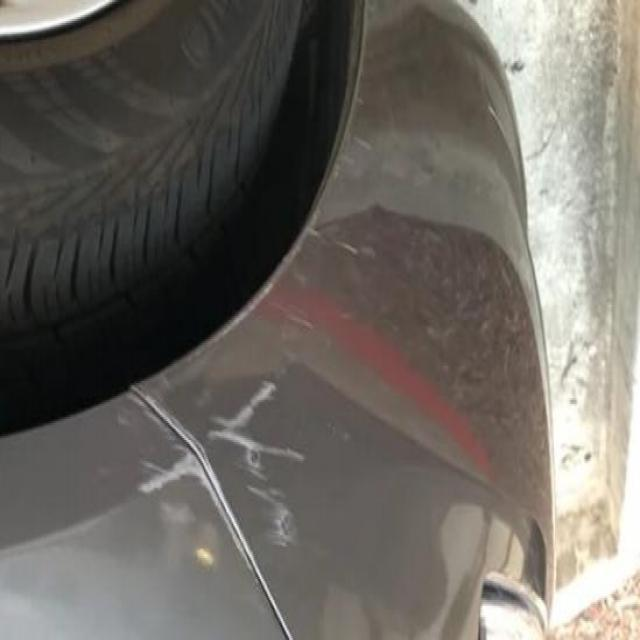scratch: (117, 348, 322, 572)
